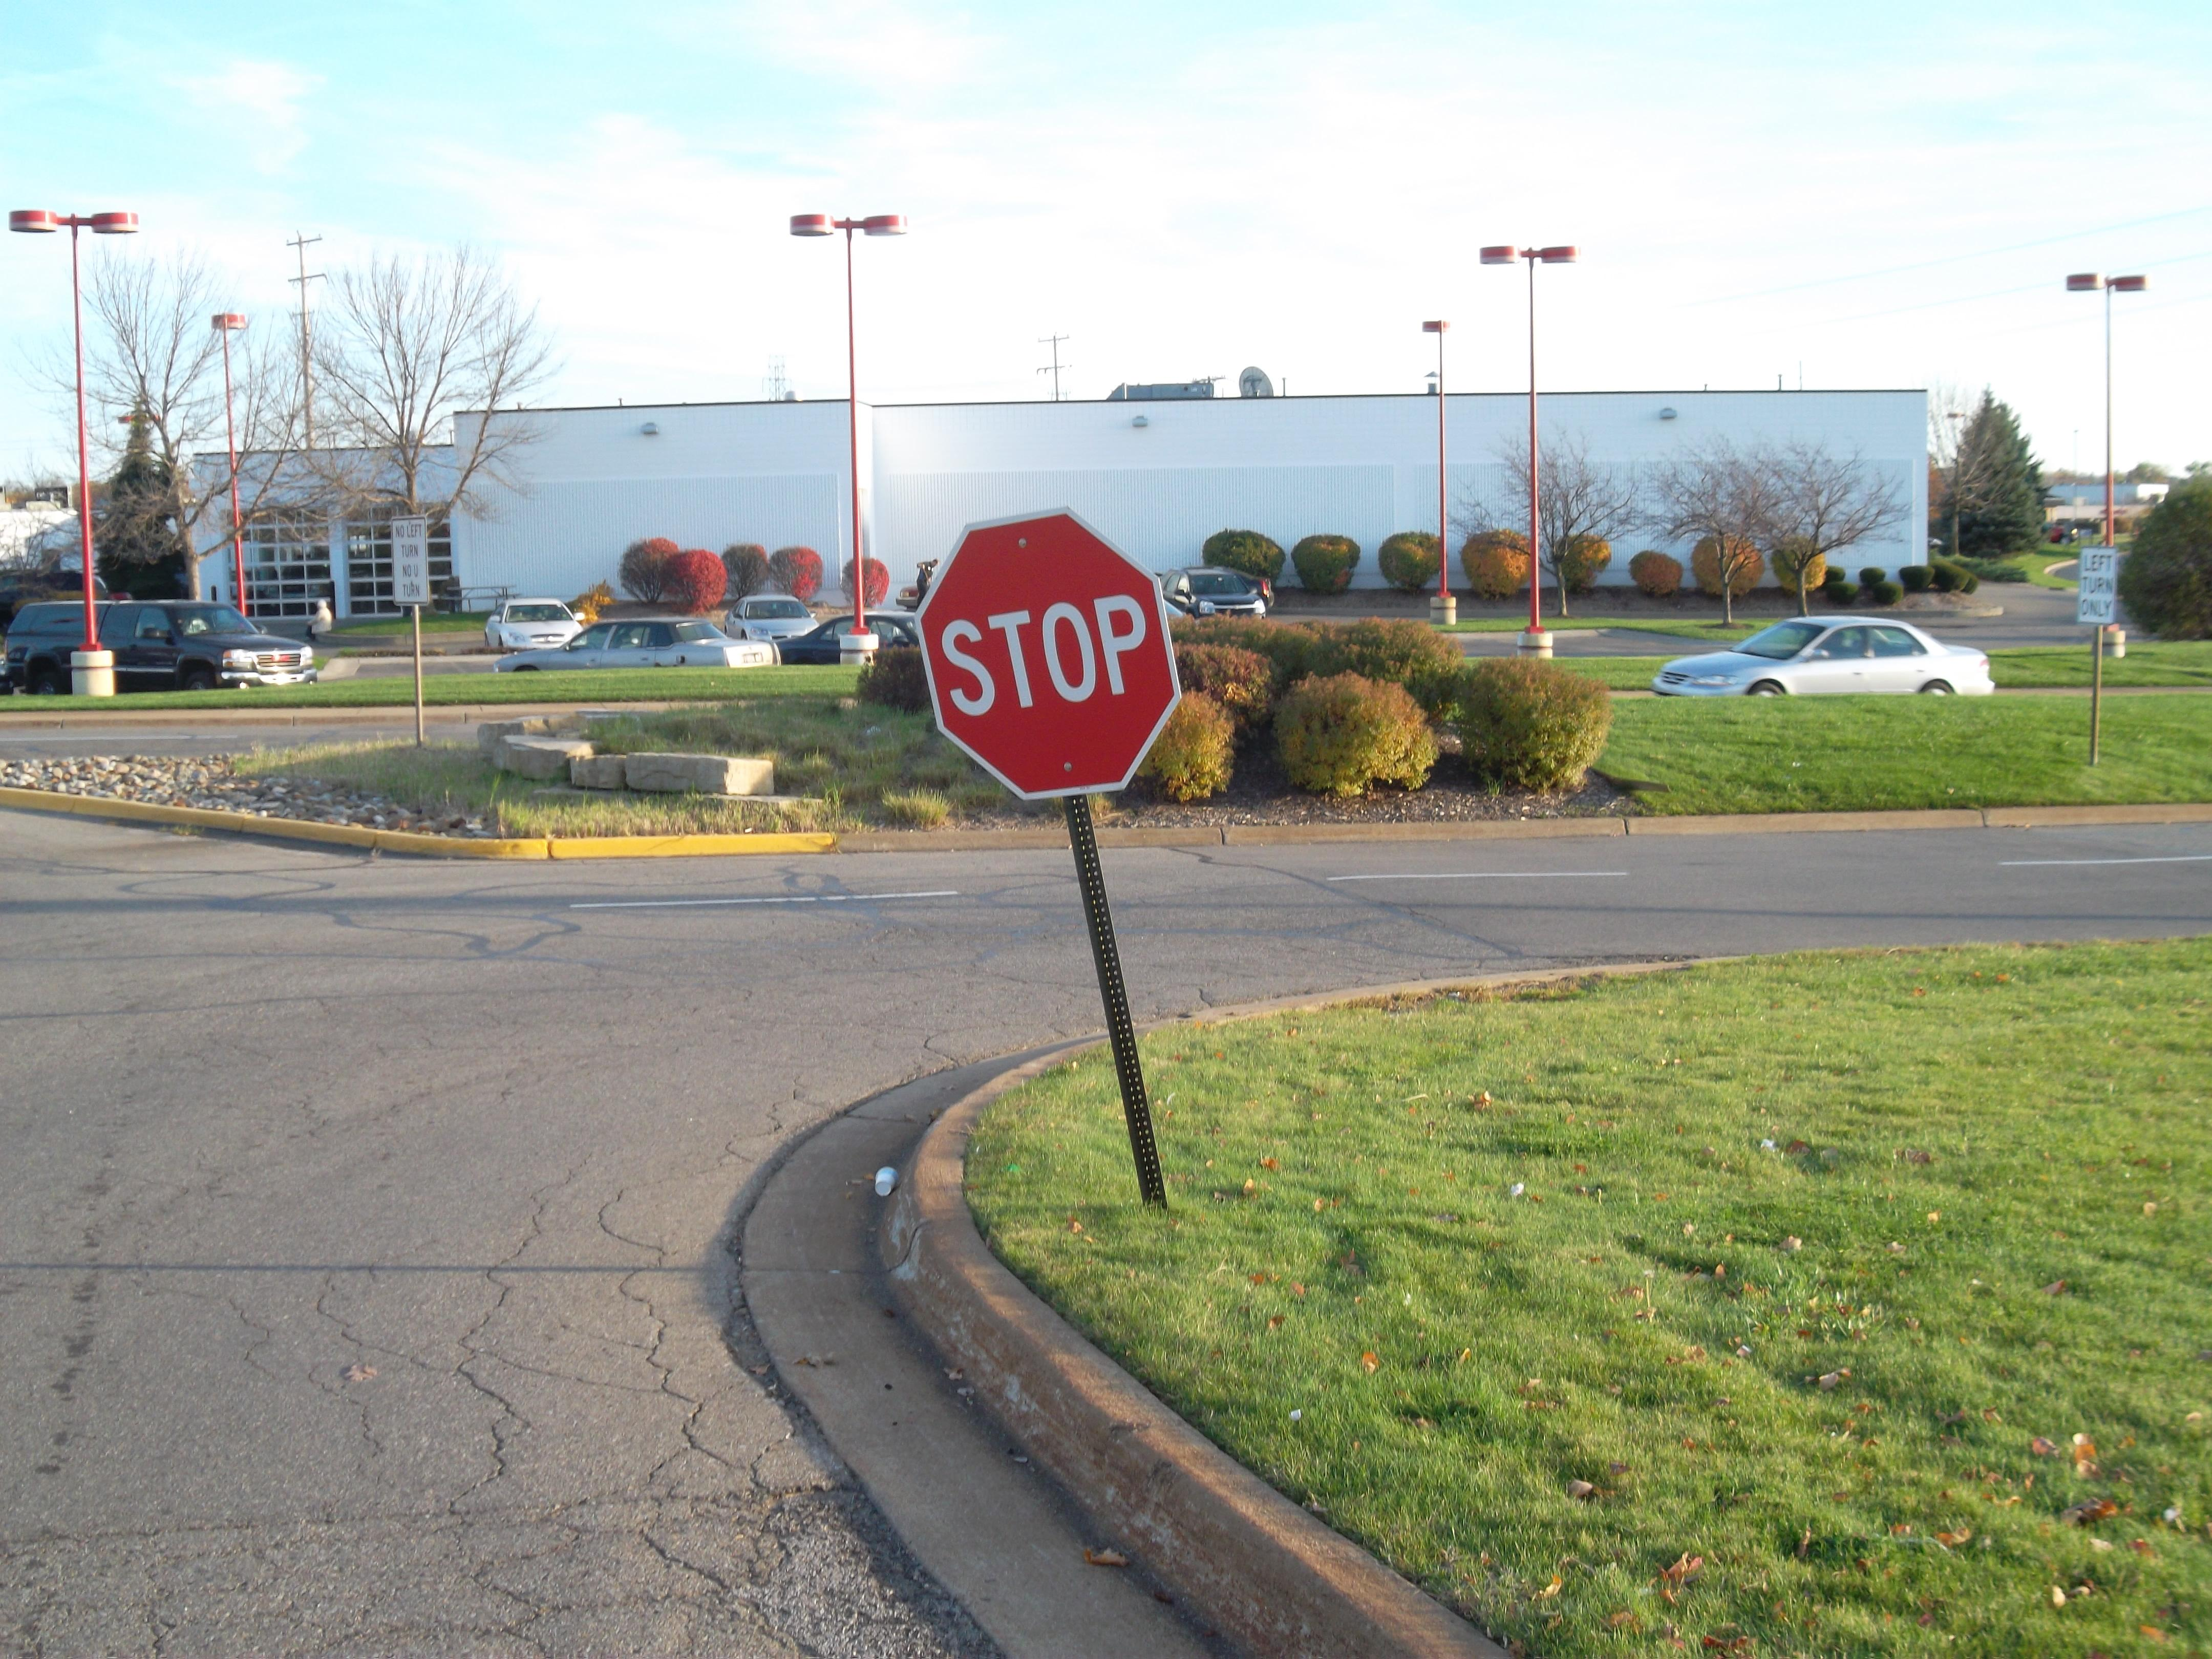regulatory: (2071, 530, 2134, 647)
stop: (920, 512, 1179, 791)
